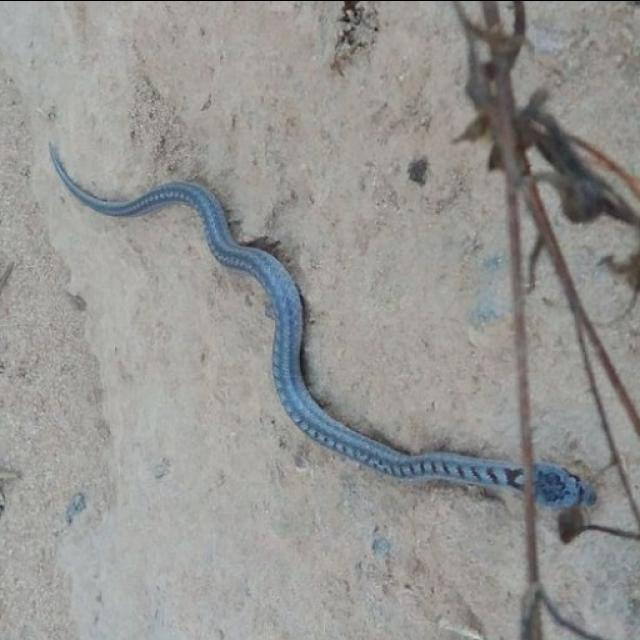snake: (43, 113, 602, 520)
